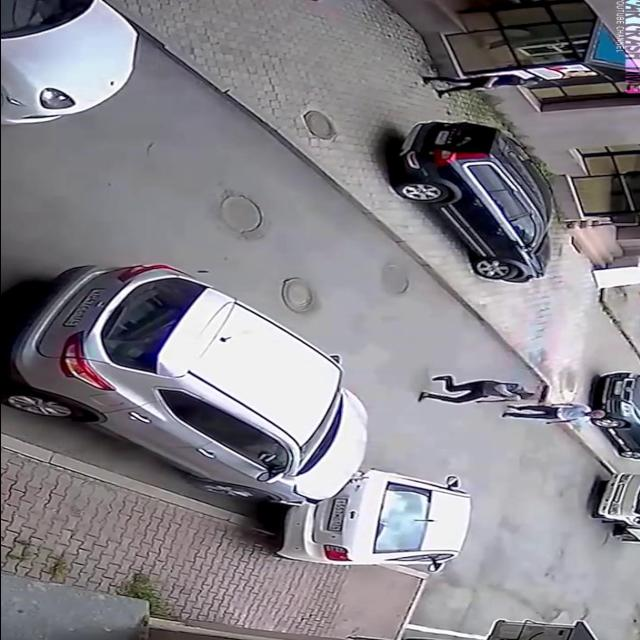accident: (0, 257, 492, 575)
